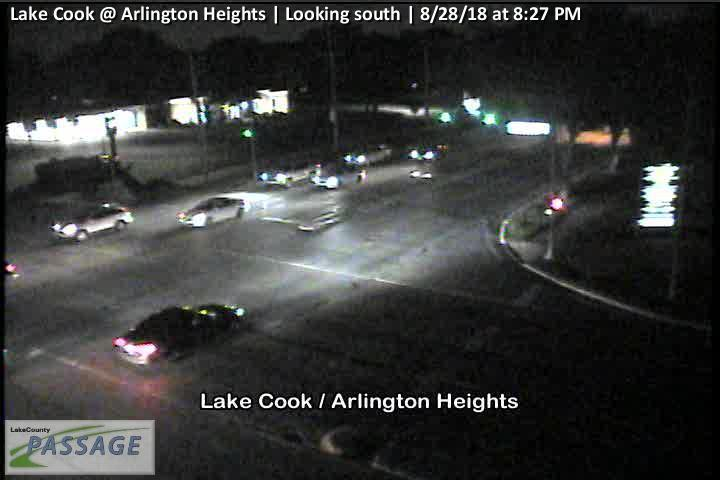Sedan: (111, 304, 249, 369), (46, 201, 134, 243), (175, 196, 244, 228)
